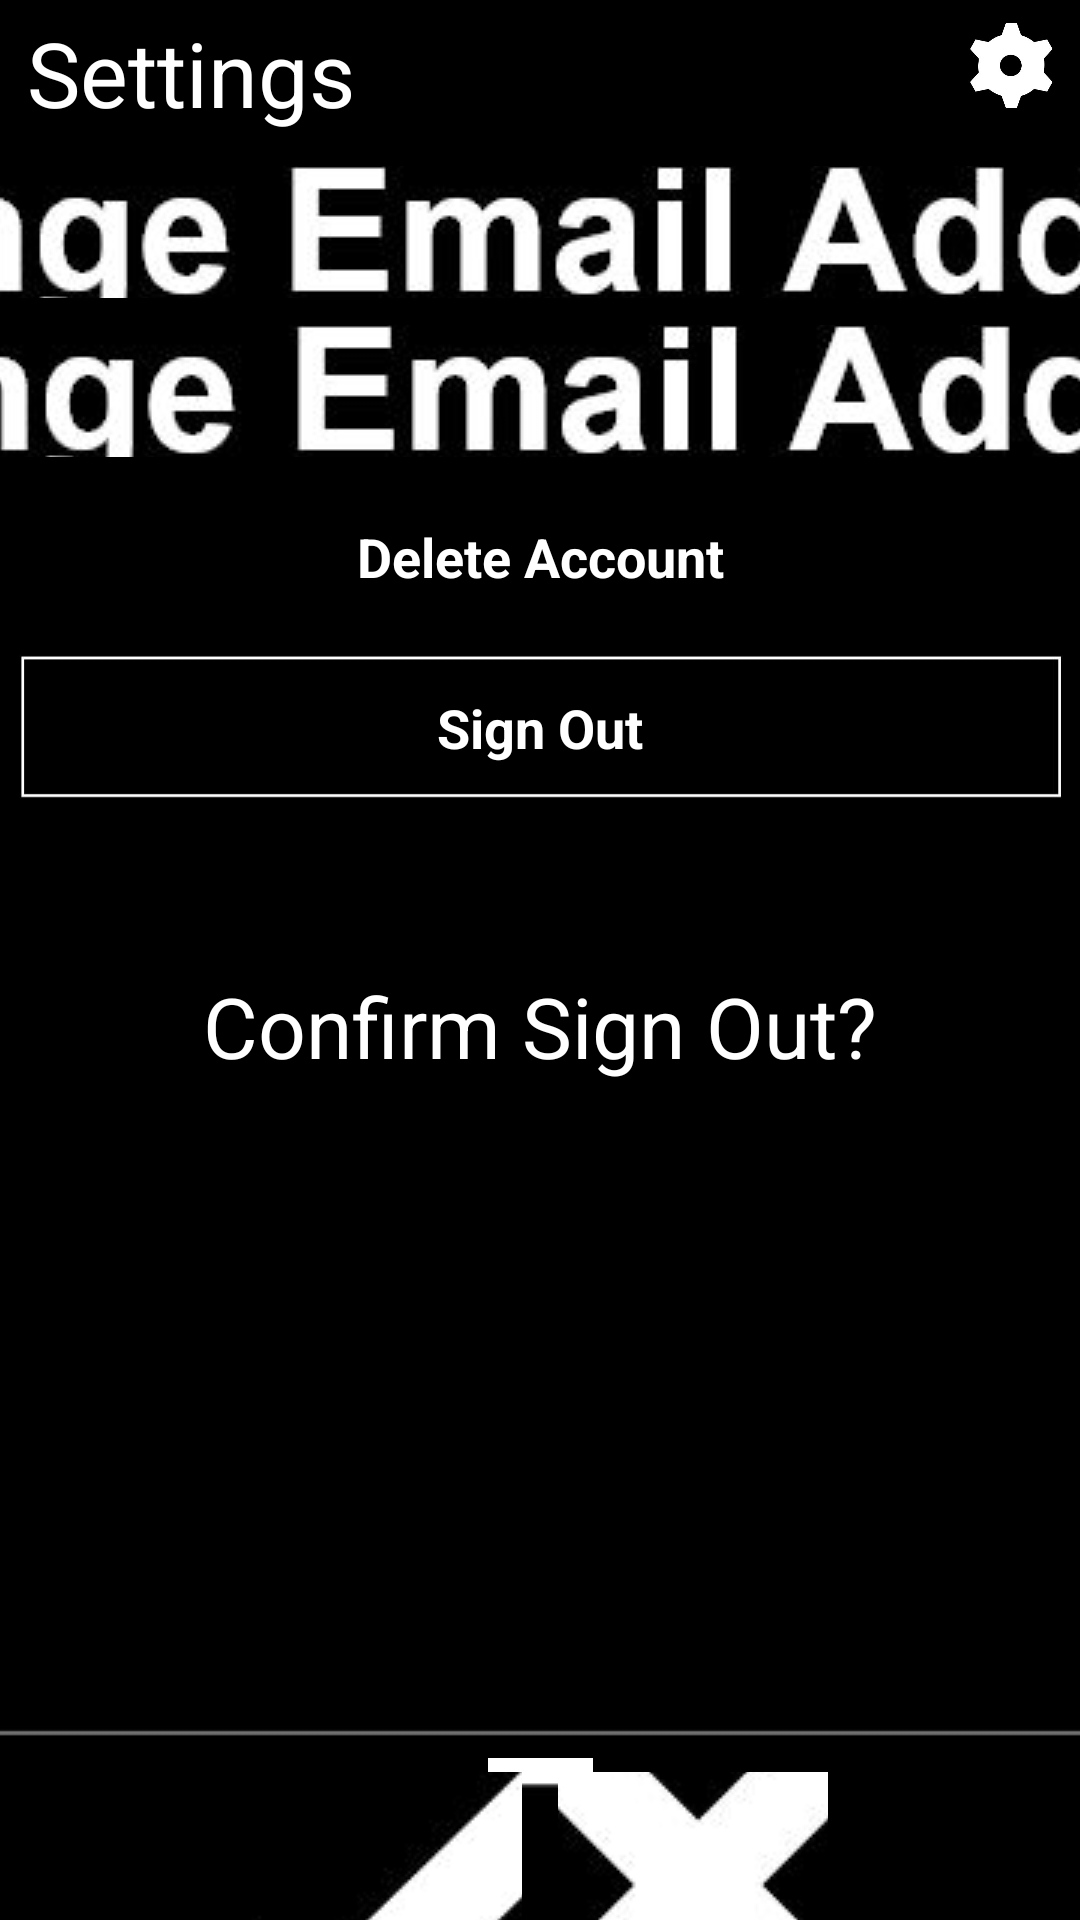

Icons on this 1080 × 1920 Android screen, each with its box as [x1=x1, y1=y1, x2=x2, y2=y2]:
settings: [x1=970, y1=23, x2=1052, y2=108]
